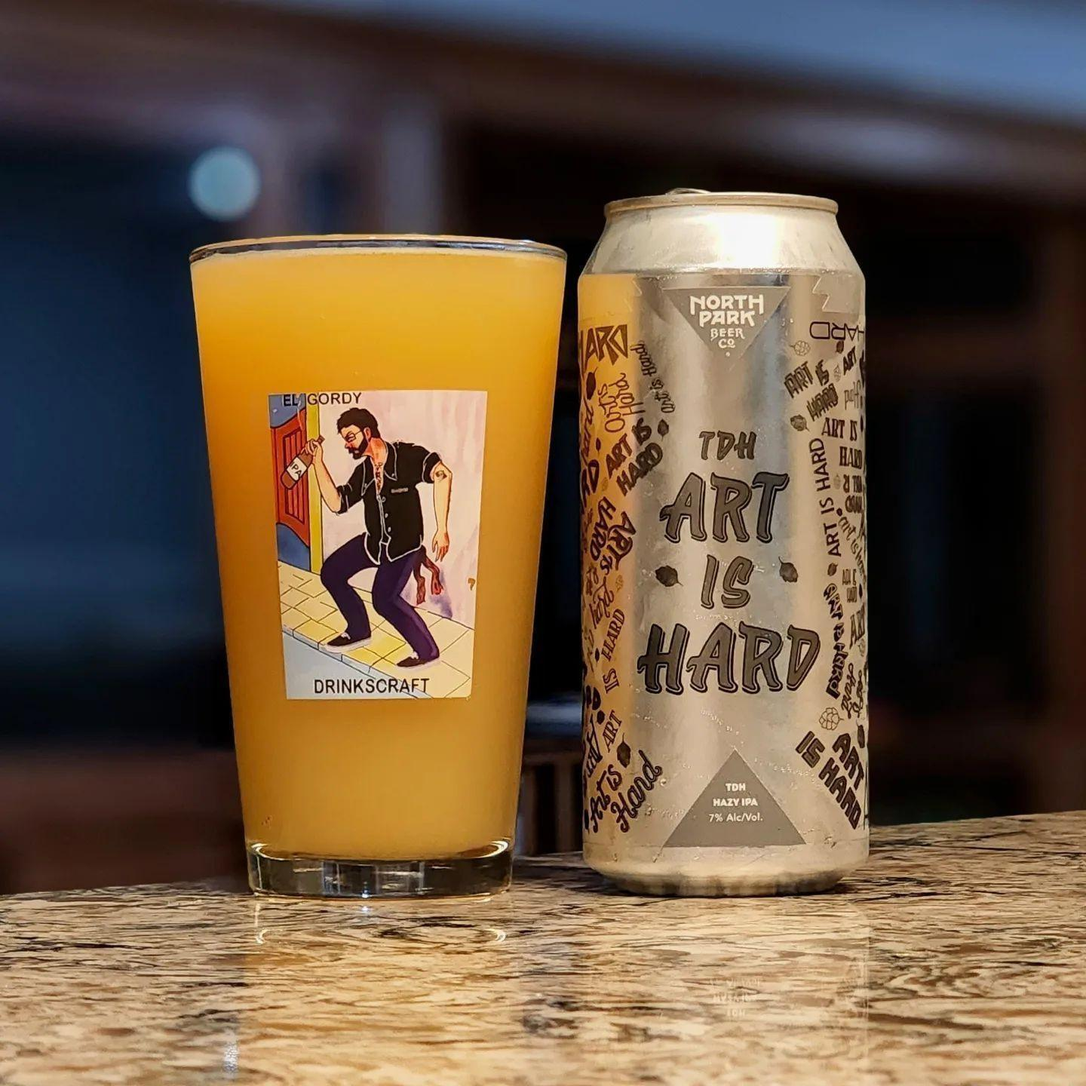glass-normal: (174, 224, 575, 906)
tin can: (566, 179, 886, 894)
